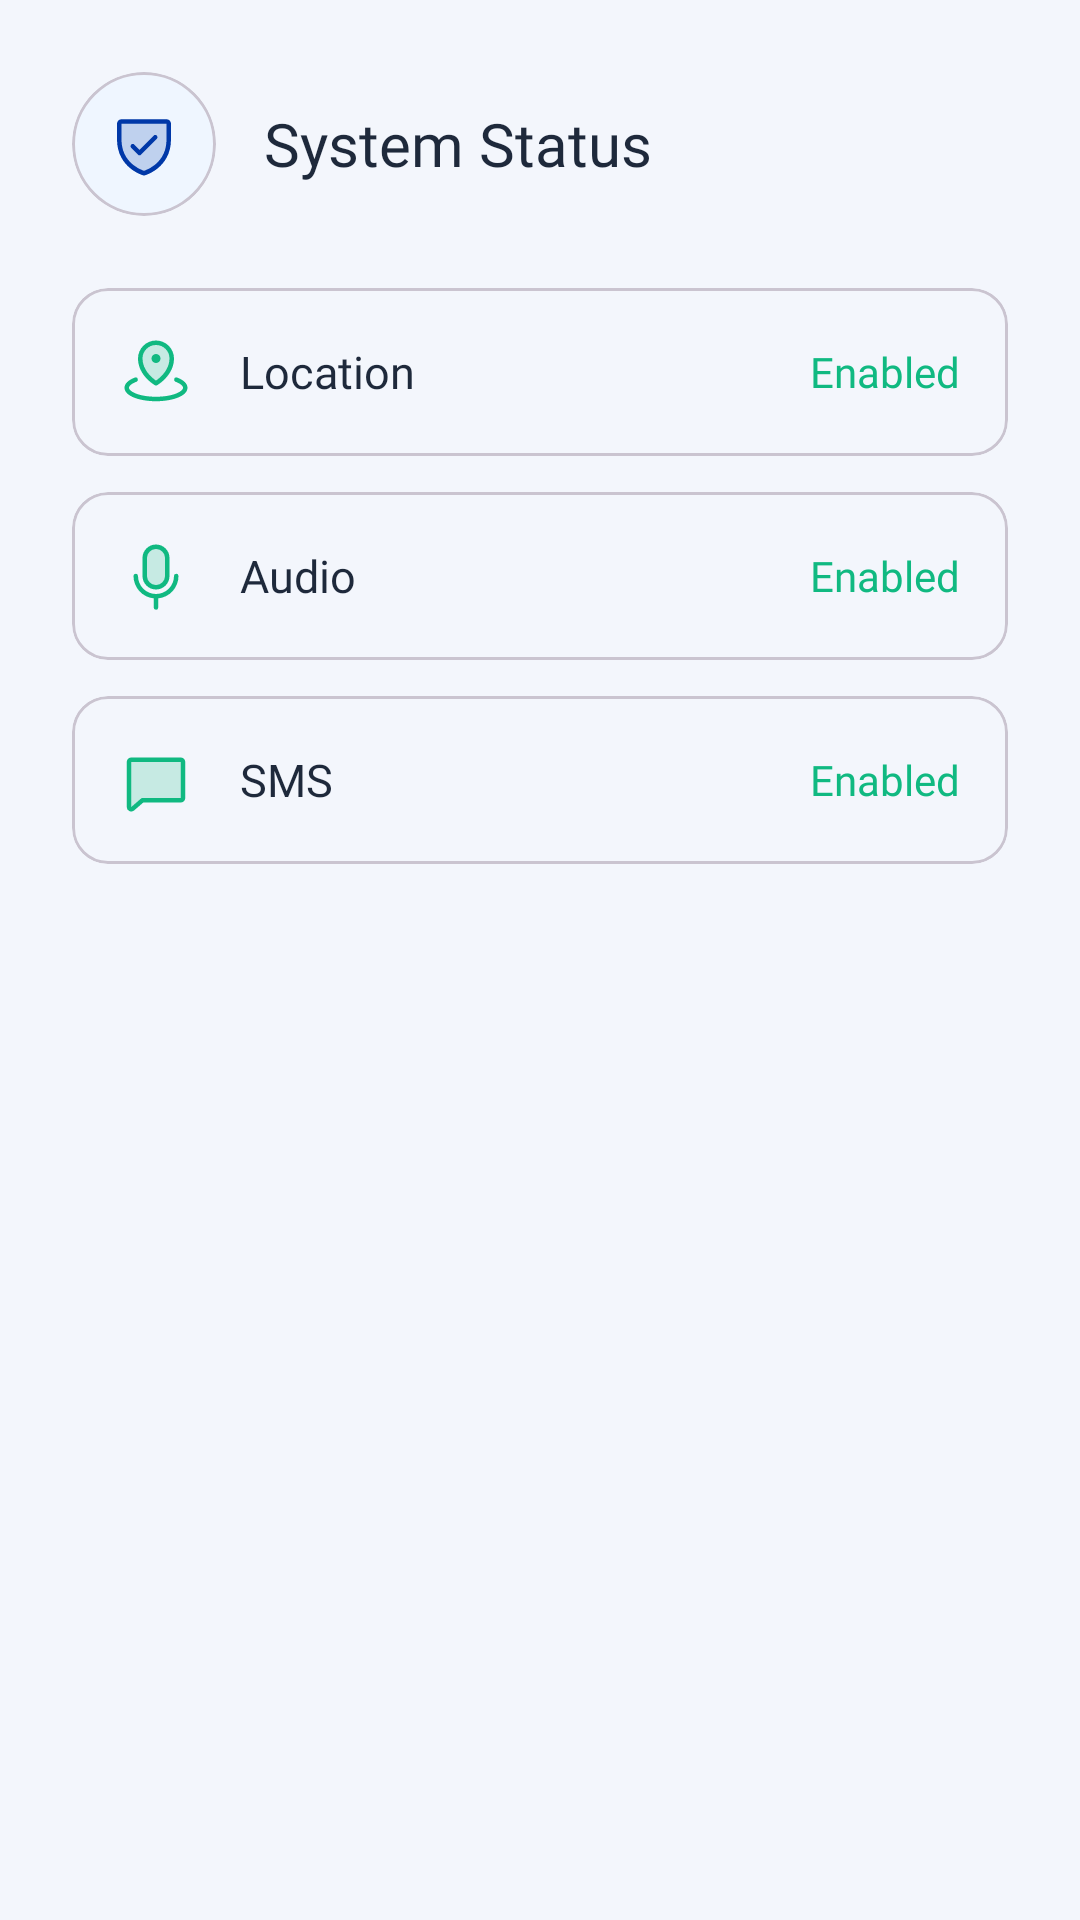

Screen size 1080*1920. Icon name, then its box in pixels as (x1, y1, x2, y2):
chats: (126, 757, 186, 812)
mic: (133, 544, 179, 610)
shield check: (117, 119, 171, 176)
